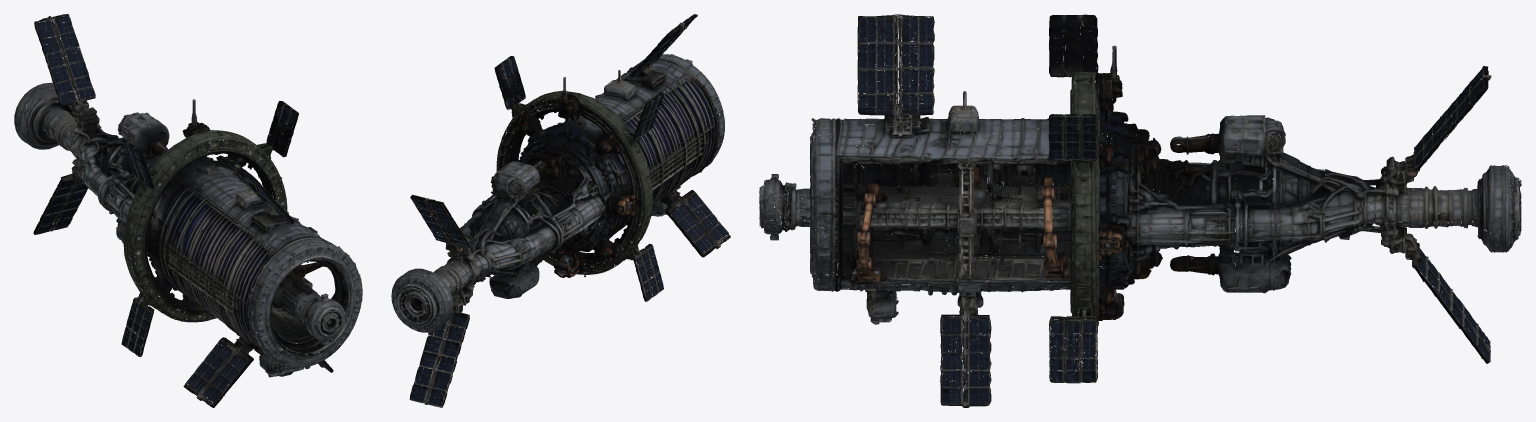
The model's file is station_photoreal_modular_opt.glb.
3 views of the same model, side by side, from view 1: azimuth 30°, elevation 25°; view 2: azimuth 150°, elevation 25°; view 3: azimuth 270°, elevation 25° (orthographic). The views are drawn at different scales.
Visible parts, largest first — view 1: world; view 2: world; view 3: world.
Boxes of the visible parts, bbox=[...] form: world: bbox=[14, 14, 362, 407]; world: bbox=[391, 14, 730, 407]; world: bbox=[759, 14, 1521, 407].
Bounding box in the file's own units: 0.3169 × 0.4663 × 1.
1 material, 1 textured.
